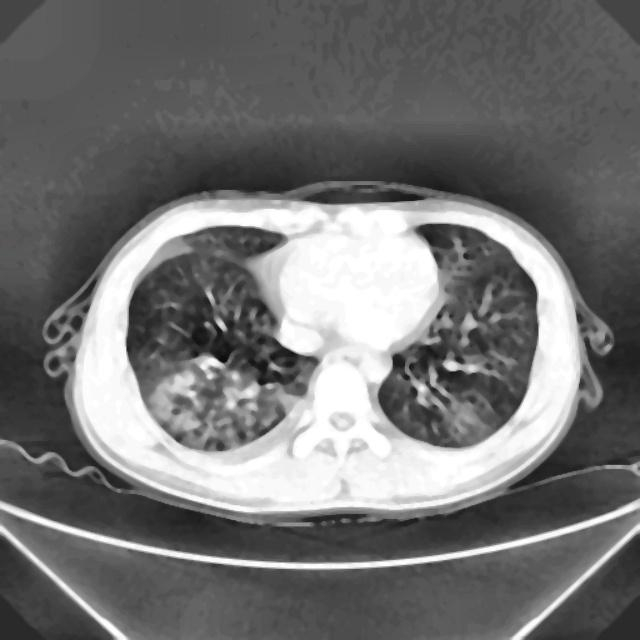covid: (46, 180, 613, 526)
